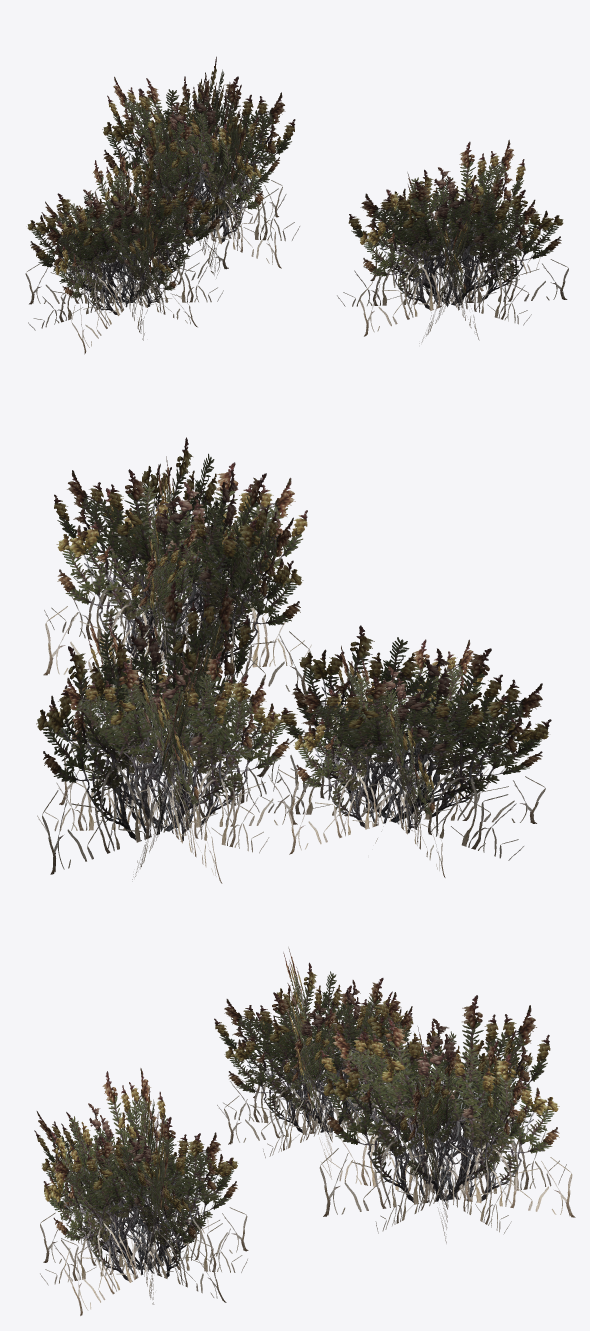
The model's file is Calluna_vulgaris04.fbx.
3 renders of one model, top to bottom at view 1: azimuth 30°, elevation 25°; view 2: azimuth 150°, elevation 25°; view 3: azimuth 270°, elevation 25°, orthographic. The views are drawn at different scales.
Visible parts, largest first — view 1: Calluna_vulgaris04; view 2: Calluna_vulgaris04; view 3: Calluna_vulgaris04.
Part boxes in pixels (<box>): Calluna_vulgaris04: <box>25,56,568,354</box>; Calluna_vulgaris04: <box>36,437,551,883</box>; Calluna_vulgaris04: <box>34,947,575,1315</box>.
Size of the model in its own units: 1873 by 699 by 1718.
